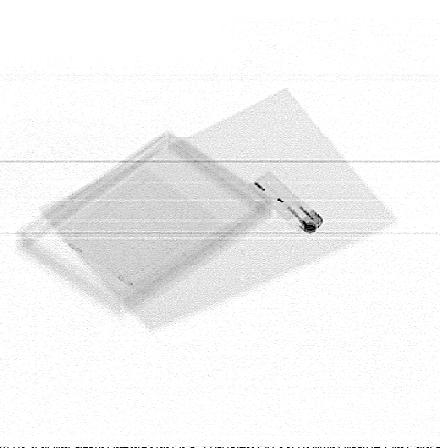Lighter: (250, 171, 325, 234)
